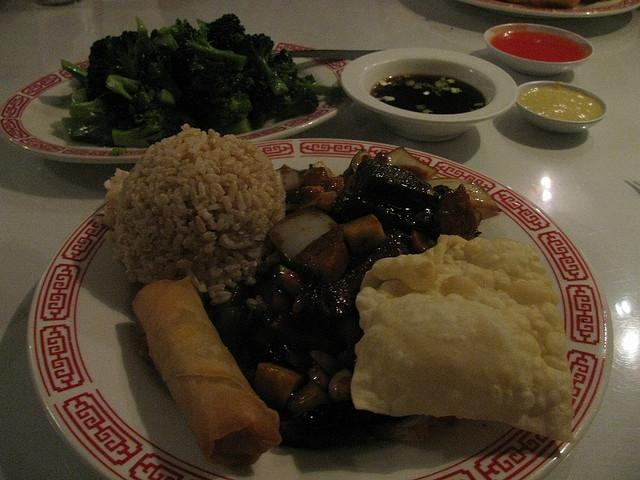broccoli: (112, 102, 184, 148), (190, 62, 256, 98), (196, 13, 248, 51), (134, 16, 166, 76), (274, 84, 320, 123), (154, 87, 197, 128), (209, 92, 254, 128), (62, 117, 118, 141), (178, 88, 213, 124), (268, 49, 298, 88), (69, 96, 114, 122), (244, 82, 279, 114), (61, 59, 89, 89), (111, 30, 138, 59), (106, 75, 137, 100), (240, 60, 268, 84), (152, 34, 180, 50), (150, 29, 160, 42)
